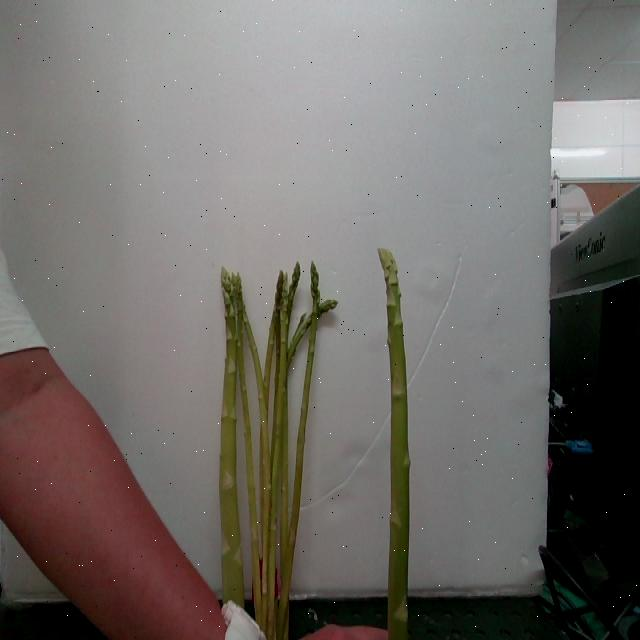aspargus: (377, 248, 409, 640)
